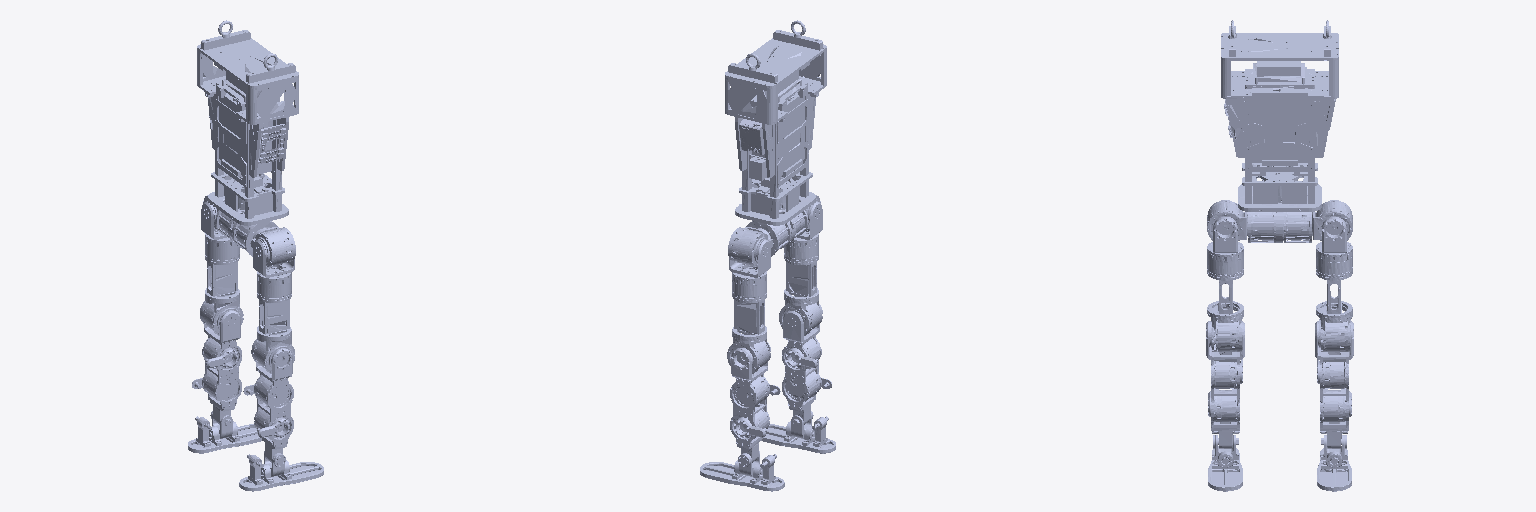
--- Render facts (derived) ---
3 views of the same robot in one strip: view 1: azimuth 30°, elevation 25°; view 2: azimuth 150°, elevation 25°; view 3: azimuth 270°, elevation 25° (orthographic).
Robot: KIMM_bipedal — 18 links, 17 joints (12 revolute, 5 fixed); root link Base_link; default pose: all joints at 0.
Links seen in each view (by area): view 1: Upper_body_link, R_Thigh_link, L_Calf_link, L_Thigh_link, R_Calf_link, R_Ankle_roll_link, L_Ankle_roll_link, R_Hip_pitch_link, Base_link, R_Hip_roll_yaw_link; view 2: Upper_body_link, L_Thigh_link, R_Calf_link, R_Thigh_link, L_Calf_link, L_Ankle_roll_link, R_Ankle_roll_link, L_Hip_pitch_link, Base_link, L_Hip_roll_yaw_link; view 3: Upper_body_link, L_Thigh_link, R_Thigh_link, R_Calf_link, L_Calf_link, Base_link, R_Ankle_roll_link, L_Ankle_roll_link, L_Hip_pitch_link, R_Hip_pitch_link, L_Hip_roll_yaw_link, R_Hip_roll_yaw_link.
Link boxes in pixels (left/top/right/bottom): Upper_body_link: left=197, top=20, right=298, bottom=225; R_Thigh_link: left=251, top=267, right=294, bottom=372; L_Calf_link: left=202, top=311, right=241, bottom=424; L_Thigh_link: left=200, top=230, right=243, bottom=334; R_Calf_link: left=254, top=348, right=293, bottom=462; R_Ankle_roll_link: left=239, top=454, right=323, bottom=491; L_Ankle_roll_link: left=188, top=416, right=261, bottom=453; R_Hip_pitch_link: left=251, top=227, right=295, bottom=266; Base_link: left=215, top=210, right=277, bottom=256; R_Hip_roll_yaw_link: left=253, top=240, right=294, bottom=277; Upper_body_link: left=725, top=20, right=826, bottom=225; L_Thigh_link: left=727, top=267, right=770, bottom=372; R_Calf_link: left=782, top=311, right=821, bottom=424; R_Thigh_link: left=779, top=230, right=822, bottom=334; L_Calf_link: left=730, top=348, right=769, bottom=462; L_Ankle_roll_link: left=700, top=454, right=784, bottom=491; R_Ankle_roll_link: left=762, top=416, right=835, bottom=453; L_Hip_pitch_link: left=728, top=227, right=772, bottom=266; Base_link: left=746, top=210, right=808, bottom=256; L_Hip_roll_yaw_link: left=729, top=240, right=770, bottom=277; Upper_body_link: left=1221, top=20, right=1338, bottom=211; L_Thigh_link: left=1316, top=242, right=1352, bottom=351; R_Thigh_link: left=1207, top=242, right=1243, bottom=351; R_Calf_link: left=1206, top=321, right=1244, bottom=448; L_Calf_link: left=1315, top=321, right=1353, bottom=448; Base_link: left=1248, top=212, right=1311, bottom=242; R_Ankle_roll_link: left=1208, top=431, right=1242, bottom=491; L_Ankle_roll_link: left=1317, top=431, right=1351, bottom=491; L_Hip_pitch_link: left=1312, top=200, right=1352, bottom=240; R_Hip_pitch_link: left=1207, top=200, right=1247, bottom=240; L_Hip_roll_yaw_link: left=1322, top=217, right=1346, bottom=252; R_Hip_roll_yaw_link: left=1213, top=217, right=1237, bottom=252.
Bounding box of the posed robot: 0.2799 × 0.42 × 1.4 m (x, y, z).
18 mesh visuals loaded from 16 distinct referenced files (16 binary STL).

robot.urdf — KIMM_bipedal:
<?xml version="1.0" encoding="utf-8"?>

<robot
  name="KIMM_bipedal">

<!-- BASE -->
  <link
    name="Base_link">
    <inertial>
      <origin
        xyz="0.00015 0.0 0.00221"
        rpy="0 0 0" />
      <mass
        value="5.47777" />
      <inertia
        ixx="0.02107"
        ixy="0.0"
        ixz="0.0"
        iyy="0.00958"
        iyz="0.0"
        izz="0.02026" />
    </inertial>
    <visual>
      <origin
        xyz="0 0 0"
        rpy="0 0 0" />
      <geometry>
        <mesh
          filename="meshes/Base_link.STL" />
      </geometry>
      <material
        name="">
        <color
          rgba="0.79216 0.81961 0.93333 1" />
      </material>
    </visual>
    <collision>
      <origin
        xyz="0 0 0.3"
        rpy="0 0 0" />
      <geometry>
        <box size="0.15 0.3 0.35"/>
      </geometry>
    </collision>
  </link>
  <link
    name="Upper_body_link">
    <inertial>
      <origin
        xyz="-0.00029 0.00115 0.30893"
        rpy="0 0 0" />
      <mass
        value="14.65625" />
      <inertia
        ixx="0.47711"
        ixy="0.0"
        ixz="0.00158"
        iyy="0.40612"
        iyz="0.00050"
        izz="0.12215" />
    </inertial>
    <visual>
      <origin
        xyz="0 0 0"
        rpy="0 0 0" />
      <geometry>
        <mesh
          filename="meshes/Upper_body_link.STL" />
      </geometry>
      <material
        name="">
        <color
          rgba="0.79216 0.81961 0.93333 1" />
      </material>
    </visual>
    <!-- <collision>
      <origin
        xyz="0 0 0.3"
        rpy="0 0 0" />
      <geometry>
        <box size="0.15 0.3 0.35"/>
      </geometry>
    </collision> -->
  </link>
  <joint
    name="Torso_yaw_joint"
    type="fixed">
    <origin
      xyz="0 0 0"
      rpy="0 0 0" />
    <parent
      link="Base_link" />
    <child
      link="Upper_body_link" />
    <axis
      xyz="0 0 1" />
  </joint>
<!-- LEFT LEG -->
  <link
    name="L_Hip_pitch_link">
    <inertial>
      <origin
        xyz="-0.00026 -0.00234 0.00004"
        rpy="0 0 0" />
      <mass
        value="2.89580" />
      <inertia
        ixx="0.00432"
        ixy="0.00007"
        ixz="0.0"
        iyy="0.00371"
        iyz="0.0"
        izz="0.00408" />
    </inertial>
    <visual>
      <origin
        xyz="0 0 0"
        rpy="0 0 0" />
      <geometry>
        <mesh
          filename="meshes/L_Hip_pitch_link.STL" />
      </geometry>
      <material
        name="">
        <color
          rgba="0.79216 0.81961 0.93333 1" />
      </material>
    </visual>
    <collision>
      <origin
        xyz="0 0 0"
        rpy="1.5708 0 0" />
      <geometry>
        <cylinder radius="0.045" length="0.1"/>
      </geometry>
    </collision>
  </link>
  <joint
    name="L_Hip_pitch_joint"
    type="revolute">
    <origin
      xyz="0 0.155 0"
      rpy="0 0 0" />
    <parent link="Base_link" />
    <child link="L_Hip_pitch_link" />
    <axis xyz="0 1 0" />
    <limit effort="125" lower="-3.14159" upper="3.14159" velocity="12.73"/> <!-- -180도 180도 -->
  </joint>
  <link
    name="L_Hip_roll_yaw_link">
    <inertial>
      <origin
        xyz="-0.00072 0.0 -0.03765"
        rpy="0 0 0" />
      <mass
        value="0.37840" />
      <inertia
        ixx="0.00058"
        ixy="0.0"
        ixz="0.00004"
        iyy="0.00119 "
        iyz="0.0"
        izz="0.00093" />
    </inertial>
    <visual>
      <origin
        xyz="0 0 0"
        rpy="0 0 0" />
      <geometry>
        <mesh
          filename="meshes/L_Hip_roll_yaw_link.STL" />
      </geometry>
      <material
        name="">
        <color
          rgba="0.79216 0.81961 0.93333 1" />
      </material>
    </visual>
    <!-- <collision>
      <origin
        xyz="0 0 0"
        rpy="0 0 0" />
      <geometry>
        <cylinder radius="0.045" length="0.1"/>
      </geometry>
    </collision> -->
  </link>
  <joint
    name="L_Hip_roll_joint"
    type="revolute">
    <origin
      xyz="0 0 0"
      rpy="0 0 0" />
    <parent link="L_Hip_pitch_link" />
    <child link="L_Hip_roll_yaw_link" />
    <axis xyz="1 0 0" />
    <limit effort="125" lower="-0.174533" upper="3.14159" velocity="12.73"/> <!-- -10도 180도 -->
  </joint>
  <link
    name="L_Thigh_link">
    <inertial>
      <origin
        xyz="-0.00002 0.00036 -0.23942"
        rpy="0 0 0" />
      <mass
        value="5.96022" />
      <inertia
        ixx="0.08113"
        ixy="0.00001"
        ixz="-0.00004"
        iyy="0.08159"
        iyz="0.00022"
        izz="0.00813" />
    </inertial>
    <visual>
      <origin
        xyz="0 0 0"
        rpy="0 0 0" />
      <geometry>
        <mesh
          filename="meshes/L_Thigh_link.STL" />
      </geometry>
      <material
        name="">
        <color
          rgba="0.79216 0.81961 0.93333 1" />
      </material>
    </visual>
    <collision>
      <origin
        xyz="0 0 -0.2"
        rpy="0 0 0" />
      <geometry>
        <cylinder radius="0.045" length="0.1"/>
      </geometry>
    </collision>
  </link>
  <joint
    name="L_Hip_yaw_joint"
    type="revolute">
    <origin
      xyz="0 0 0"
      rpy="0 0 0" />
    <parent link="L_Hip_roll_yaw_link" />
    <child link="L_Thigh_link" />
    <axis xyz="0 0 1" />
    <limit effort="125" lower="-3.14159" upper="3.14159" velocity="12.73"/> <!-- -180도 180도 -->
  </joint>
  <link
    name="L_Calf_link">
    <inertial>
      <origin
        xyz="-0.00001 -0.00017 -0.17461"
        rpy="0 0 0" />
      <mass
        value="4.29621" />
      <inertia
        ixx="0.02892 "
        ixy="0.0"
        ixz="0.0"
        iyy="0.02875"
        iyz="0.00018"
        izz="0.00464" />
    </inertial>
    <visual>
      <origin
        xyz="0 0 0"
        rpy="0 0 0" />
      <geometry>
        <mesh
          filename="meshes/L_Calf_link.STL" />
      </geometry>
      <material
        name="">
        <color
          rgba="0.79216 0.81961 0.93333 1" />
      </material>
    </visual>
    <collision>
      <origin
        xyz="0 0 -0.15"
        rpy="0 0 0" />
      <geometry>
        <cylinder radius="0.045" length="0.25"/>
      </geometry>
    </collision>
  </link>
  <joint
    name="L_Knee_joint"
    type="revolute">
    <origin
      xyz="0 0 -0.35"
      rpy="0 0 0" />
    <parent link="L_Thigh_link" />
    <child link="L_Calf_link" />
    <axis xyz="0 1 0" />
    <limit effort="125" lower="-2.1293" upper="2.1293" velocity="12.73"/> <!-- -122도 122도 -->
  </joint>
  <link
    name="L_Crank1_link">
    <inertial>
      <origin
        xyz="-0.02580 0.01144 0.0"
        rpy="0 0 0" />
      <mass
        value="0.08394" />
      <inertia
        ixx="0.00002"
        ixy="0.0"
        ixz="0.0"
        iyy="0.00010"
        iyz="0.0"
        izz="0.00009" />
    </inertial>
    <visual>
      <origin
        xyz="0 0 0"
        rpy="0 0 0" />
      <geometry>
        <mesh
          filename="meshes/L_Crank2_link.STL" />
      </geometry>
      <material
        name="">
        <color
          rgba="0.79216 0.81961 0.93333 1" />
      </material>
    </visual>
    <!-- <collision>
      <origin
        xyz="0 0 0"
        rpy="0 0 0" />
      <geometry>
        <mesh
          filename="meshes/L_Crank2_link.STL" />
      </geometry>
    </collision> -->
  </link>
  <joint
    name="L_Crank1_joint"
    type="fixed">
    <origin
      xyz="0 -0.03 -0.125"
      rpy="0 0 0" />
    <parent
      link="L_Calf_link" />
    <child
      link="L_Crank1_link" />
    <axis
      xyz="0 1 0" />
  </joint>
  <!-- <link
    name="L_Rod1_link">
    <inertial>
      <origin
        xyz="-0.00429 -0.00006 -0.10750"
        rpy="0 0 0" />
      <mass
        value="0.11545" />
      <inertia
        ixx="0.00074"
        ixy="0.0"
        ixz="0.0"
        iyy="0.00075"
        iyz="0.0"
        izz="0.00001" />
    </inertial>
    <visual>
      <origin
        xyz="0 0 0"
        rpy="0 0 0" />
      <geometry>
        <mesh
          filename="meshes/L_Rod1_link.STL" />
      </geometry>
      <material
        name="">
        <color
          rgba="0.79216 0.81961 0.93333 1" />
      </material>
    </visual>
    <collision>
      <origin
        xyz="0 0 0"
        rpy="0 0 0" />
      <geometry>
        <mesh
          filename="meshes/L_Rod1_link.STL" />
      </geometry>
    </collision>
  </link>
  <joint
    name="L_Rod_joint"
    type="fixed">
    <origin
      xyz="-0.065 0 0"
      rpy="0 0 0" />
    <parent
      link="L_Crank1_link" />
    <child
      link="L_Rod1_link" />
    <axis
      xyz="0 1 0" />
  </joint> -->
  <link
    name="L_Crank2_link">
    <inertial>
      <origin
        xyz="-0.02580 0.01144 0.0"
        rpy="0 0 0" />
      <mass
        value="0.08394" />
      <inertia
        ixx="0.00002"
        ixy="0.0"
        ixz="0.0"
        iyy="0.00010"
        iyz="0.0"
        izz="0.00009" />
    </inertial>
    <visual>
      <origin
        xyz="0 0 0"
        rpy="0 0 0" />
      <geometry>
        <mesh
          filename="meshes/L_Crank1_link.STL" />
      </geometry>
      <material
        name="">
        <color
          rgba="0.792156862745098 0.819607843137255 0.933333333333333 1" />
      </material>
    </visual>
    <!-- <collision>
      <origin
        xyz="0 0 0"
        rpy="0 0 0" />
      <geometry>
        <mesh
          filename="meshes/L_Crank1_link.STL" />
      </geometry>
    </collision> -->
  </link>
  <joint
    name="L_Crank2_joint"
    type="fixed">
    <origin
      xyz="0 0.03 -0.229"
      rpy="0 0 0" />
    <parent
      link="L_Calf_link" />
    <child
      link="L_Crank2_link" />
    <axis
      xyz="0 1 0" />
  </joint>
  <!-- <link
    name="L_Rod2_link">
    <inertial>
      <origin
        xyz="-0.00297 0.00008 -0.05550"
        rpy="0 0 0" />
      <mass
        value="0.07761" />
      <inertia
        ixx="0.00016"
        ixy="0.0"
        ixz="0.0"
        iyy="0.00017"
        iyz="0.0"
        izz="0.0" />
    </inertial>
    <visual>
      <origin
        xyz="0 0 0"
        rpy="0 0 0" />
      <geometry>
        <mesh
          filename="meshes/L_Rod2_link.STL" />
      </geometry>
      <material
        name="">
        <color
          rgba="0.79216 0.81961 0.93333 1" />
      </material>
    </visual>
    <collision>
      <origin
        xyz="0 0 0"
        rpy="0 0 0" />
      <geometry>
        <mesh
          filename="meshes/L_Rod2_link.STL" />
      </geometry>
    </collision>
  </link>
  <joint
    name="L_Rod2_joint"
    type="fixed">
    <origin
      xyz="-0.065 0 0"
      rpy="0 0 0" />
    <parent
      link="L_Crank2_link" />
    <child
      link="L_Rod2_link" />
    <axis
      xyz="0 1 0" />
  </joint> -->
  <link
    name="L_Ankle_pitch_link">
    <inertial>
      <origin
        xyz="0.00042 0.00266 -0.02372"
        rpy="0 0 0" />
      <mass
        value="0.53789" />
      <inertia
        ixx="0.00046"
        ixy="0.0"
        ixz="0.00001"
        iyy="0.00069"
        iyz="0.0"
        izz="0.00034" />
    </inertial>
    <visual>
      <origin
        xyz="0 0 0"
        rpy="0 0 0" />
      <geometry>
        <mesh
          filename="meshes/L_Ankle_pitch_link.STL" />
      </geometry>
      <material
        name="">
        <color
          rgba="0.79216 0.81961 0.93333 1" />
      </material>
    </visual>
    <!-- <collision>
      <origin
        xyz="0 0 0"
        rpy="0 0 0" />
      <geometry>
        <mesh
          filename="meshes/L_Ankle_pitch_link.STL" />
      </geometry>
    </collision> -->
  </link>
  <joint
    name="L_Ankle_pitch_joint"
    type="revolute">
    <origin
      xyz="0 0 -0.34"
      rpy="0 0 0" />
    <parent link="L_Calf_link" />
    <child link="L_Ankle_pitch_link" />
    <axis xyz="0 1 0" />
    <limit effort="76" lower="-0.698132" upper="0.698132" velocity="12.38"/> <!-- -40도 40도 -->
  </joint>
  <link
    name="L_Ankle_roll_link">
    <inertial>
      <origin
        xyz="-0.00490 -0.00001 -0.00997"
        rpy="0 0 0" />
      <mass
        value="0.77460" />  <!--0.77460-->
      <inertia
        ixx="0.00094"
        ixy="0.0"
        ixz="0.00062"
        iyy="0.00401"
        iyz="0.0"
        izz="0.00388" />
    </inertial>
    <visual>
      <origin
        xyz="0 0 0"
        rpy="0 0 0" />
      <geometry>
        <mesh
          filename="meshes/L_Ankle_roll_link.STL" />
      </geometry>
      <material
        name="">
        <color
          rgba="0.79216 0.81961 0.93333 1" />
      </material>
    </visual>
    <collision>
      <origin
        xyz="0 0 -0.0315"
        rpy="0 0 0" />
      <geometry>
        <box size="0.279 0.099 0.013"/>
      </geometry>
    </collision>
  </link>
  <joint
    name="L_Ankle_roll_joint"
    type="revolute">
    <origin
      xyz="0 0 -0.042"
      rpy="0 0 0" />
    <parent link="L_Ankle_pitch_link" />
    <child link="L_Ankle_roll_link" />
    <axis xyz="1 0 0" />
    <limit effort="76" lower="-0.349066" upper="0.349066" velocity="12.38"/> <!-- -20도 20도 -->
  </joint>
<!-- RIGHT LEG -->
  <link
    name="R_Hip_pitch_link">
    <inertial>
      <origin
        xyz="-0.00026 0.00234 0.00004"
        rpy="0 0 0" />
      <mass
        value="2.89580" />
      <inertia
        ixx="0.00432"
        ixy="-0.00007"
        ixz="0.0"
        iyy="0.00371"
        iyz="0.0"
        izz="0.00408" />
    </inertial>
    <visual>
      <origin
        xyz="0 0 0"
        rpy="0 0 0" />
      <geometry>
        <mesh
          filename="meshes/R_Hip_pitch_link.STL" />
      </geometry>
      <material
        name="">
        <color
          rgba="0.79216 0.81961 0.93333 1" />
      </material>
    </visual>
    <collision>
      <origin
        xyz="0 0 0"
        rpy="1.5708 0 0" />
      <geometry>
        <cylinder radius="0.045" length="0.1"/>
      </geometry>
    </collision>
  </link>
  <joint
    name="R_Hip_pitch_joint"
    type="revolute">
    <origin
      xyz="0 -0.155 0"
      rpy="0 0 0" />
    <parent link="Base_link" />
    <child link="R_Hip_pitch_link" />
    <axis xyz="0 1 0" />
    <limit effort="125" lower="-3.14159" upper="3.14159" velocity="12.73"/> <!-- -180도 180도 -->
  </joint>
  <link
    name="R_Hip_roll_yaw_link">
    <inertial>
      <origin
        xyz="-0.00072 0.0 -0.03765"
        rpy="0 0 0" />
      <mass
        value="0.37840" />
      <inertia
        ixx="0.00058"
        ixy="0.0"
        ixz="0.00004"
        iyy="0.00119 "
        iyz="0.0"
        izz="0.00093" />
    </inertial>
    <visual>
      <origin
        xyz="0 0 0"
        rpy="0 0 0" />
      <geometry>
        <mesh
          filename="meshes/R_Hip_roll_yaw_link.STL" />
      </geometry>
      <material
        name="">
        <color
          rgba="0.79216 0.81961 0.93333 1" />
      </material>
    </visual>
    <!-- <collision>
      <origin
        xyz="0 0 0"
        rpy="0 0 0" />
      <geometry>
        <cylinder radius="0.045" length="0.1"/>
      </geometry>
    </collision> -->
  </link>
  <joint
    name="R_Hip_roll_joint"
    type="revolute">
    <origin
      xyz="0 0 0"
      rpy="0 0 0" />
    <parent link="R_Hip_pitch_link" />
    <child link="R_Hip_roll_yaw_link" />
    <axis xyz="1 0 0" />
    <limit effort="125" lower="-0.174533" upper="3.14159" velocity="12.73"/> <!-- -10도 180도 -->
  </joint>
  <link
    name="R_Thigh_link">
    <inertial>
      <origin
        xyz="-0.00002 -0.00036 -0.23942"
        rpy="0 0 0" />
      <mass
        value="5.96022" />
      <inertia
        ixx="0.08113"
        ixy="-0.00001"
        ixz="-0.00004"
        iyy="0.08159"
        iyz="-0.00022"
        izz="0.00813" />
    </inertial>
    <visual>
      <origin
        xyz="0 0 0"
        rpy="0 0 0" />
      <geometry>
        <mesh
          filename="meshes/R_Thigh_link.STL" />
      </geometry>
      <material
        name="">
        <color
          rgba="0.792156862745098 0.819607843137255 0.933333333333333 1" />
      </material>
    </visual>
    <collision>
      <origin
        xyz="0 0 -0.2"
        rpy="0 0 0" />
      <geometry>
        <cylinder radius="0.045" length="0.1"/>
      </geometry>
    </collision>
  </link>
  <joint
    name="R_Hip_yaw_joint"
    type="revolute">
    <origin
      xyz="0 0 0"
      rpy="0 0 0" />
    <parent link="R_Hip_roll_yaw_link" />
    <child link="R_Thigh_link" />
    <axis xyz="0 0 1" />
    <limit effort="125" lower="-3.14159" upper="3.14159" velocity="12.73"/> <!-- -180도 180도 -->
  </joint>
  <link
    name="R_Calf_link">
    <inertial>
      <origin
        xyz="-0.00001 0.00017 -0.17461"
        rpy="0 0 0" />
      <mass
        value="4.29621" />
      <inertia
        ixx="0.02892 "
        ixy="0.0"
        ixz="0.0"
        iyy="0.02875"
        iyz="-0.00018"
        izz="0.00464" />
    </inertial>
    <visual>
      <origin
        xyz="0 0 0"
        rpy="0 0 0" />
      <geometry>
        <mesh
          filename="meshes/R_Calf_link.STL" />
      </geometry>
      <material
        name="">
        <color
          rgba="0.79216 0.81961 0.93333 1" />
      </material>
    </visual>
    <collision>
      <origin
        xyz="0 0 -0.15"
        rpy="0 0 0" />
      <geometry>
        <cylinder radius="0.045" length="0.25"/>
      </geometry>
    </collision>
  </link>
  <joint
    name="R_Knee_joint"
    type="revolute">
    <origin
      xyz="0 0 -0.35"
      rpy="0 0 0" />
    <parent link="R_Thigh_link" />
    <child link="R_Calf_link" />
    <axis xyz="0 1 0" />
    <limit effort="125" lower="-2.1293" upper="2.1293" velocity="12.73"/> <!-- -122도 122도 -->
  </joint>
  <link
    name="R_Crank1_link">
    <inertial>
      <origin
        xyz="-0.02580 -0.01144 0.0"
        rpy="0 0 0" />
      <mass
        value="0.08394" />
      <inertia
        ixx="0.00002"
        ixy="0.0"
        ixz="0.0"
        iyy="0.00010"
        iyz="0.0"
        izz="0.00009" />
    </inertial>
    <visual>
      <origin
        xyz="0 0 0"
        rpy="0 0 0" />
      <geometry>
        <mesh
          filename="meshes/L_Crank1_link.STL" />
      </geometry>
      <material
        name="">
        <color
          rgba="0.79216 0.81961 0.93333 1" />
      </material>
    </visual>
    <!-- <collision>
      <origin
        xyz="0 0 0"
        rpy="0 0 0" />
      <geometry>
        <mesh
          filename="meshes/L_Crank1_link.STL" />
      </geometry>
    </collision> -->
  </link>
  <joint
    name="R_Crank1_joint"
    type="fixed">
    <origin
      xyz="0 0.03 -0.125"
      rpy="0 0 0" />
    <parent
      link="R_Calf_link" />
    <child
      link="R_Crank1_link" />
    <axis
      xyz="0 1 0" />
  </joint>
  <!-- <link
    name="R_Rod1_link">
    <inertial>
      <origin
        xyz="-0.00429 0.00006 -0.10750"
        rpy="0 0 0" />
      <mass
        value="0.11545" />
      <inertia
        ixx="0.00074"
        ixy="0.0"
        ixz="0.0"
        iyy="0.00075"
        iyz="0.0"
        izz="0.00001" />
    </inertial>
    <visual>
      <origin
        xyz="0 0 0"
        rpy="0 0 0" />
      <geometry>
        <mesh
          filename="meshes/L_Rod1_link.STL" />
      </geometry>
      <material
        name="">
        <color
          rgba="0.792156862745098 0.819607843137255 0.933333333333333 1" />
      </material>
    </visual>
    <collision>
      <origin
        xyz="0 0 0"
        rpy="0 0 0" />
      <geometry>
        <mesh
          filename="meshes/R_Rod1_link.STL" />
      </geometry>
    </collision>
  </link>
  <joint
    name="R_Rod_joint"
    type="fixed">
    <origin
      xyz="-0.065 0 0"
      rpy="0 0 0" />
    <parent
      link="R_Crank1_link" />
    <child
      link="R_Rod1_link" />
    <axis
      xyz="0 1 0" />
  </joint> -->
  <link
    name="R_Crank2_link">
    <inertial>
      <origin
        xyz="-0.02580 -0.01144 0.0"
        rpy="0 0 0" />
      <mass
        value="0.08394" />
      <inertia
        ixx="0.00002"
        ixy="0.0"
        ixz="0.0"
        iyy="0.00010"
        iyz="0.0"
        izz="0.00009" />
    </inertial>
    <visual>
      <origin
        xyz="0 0 0"
        rpy="0 0 0" />
      <geometry>
        <mesh
          filename="meshes/L_Crank2_link.STL" />
      </geometry>
      <material
        name="">
        <color
          rgba="0.792156862745098 0.819607843137255 0.933333333333333 1" />
      </material>
    </visual>
    <!-- <collision>
      <origin
        xyz="0 0 0"
        rpy="0 0 0" />
      <geometry>
        <mesh
          filename="meshes/L_Crank2_link.STL" />
      </geometry>
    </collision> -->
  </link>
  <joint
    name="R_Crank2_joint"
    type="fixed">
    <origin
      xyz="0 -0.03 -0.229"
      rpy="0 0 0" />
    <parent
      link="R_Calf_link" />
    <child
      link="R_Crank2_link" />
    <axis
      xyz="0 1 0" />
  </joint>
  <!-- <link
    name="R_Rod2_link">
    <inertial>
      <origin
        xyz="-0.00297 -0.00008 -0.05550"
        rpy="0 0 0" />
      <mass
        value="0.07761" />
      <inertia
        ixx="0.00016"
        ixy="0.0"
        ixz="0.0"
        iyy="0.00017"
        iyz="0.0"
        izz="0.0" />
    </inertial>
    <visual>
      <origin
        xyz="0 0 0"
        rpy="0 0 0" />
      <geometry>
        <mesh
          filename="meshes/L_Rod2_link.STL" />
      </geometry>
      <material
        name="">
        <color
          rgba="0.792156862745098 0.819607843137255 0.933333333333333 1" />
      </material>
    </visual>
    <collision>
      <origin
        xyz="0 0 0"
        rpy="0 0 0" />
      <geometry>
        <mesh
          filename="meshes/R_Rod2_link.STL" />
      </geometry>
    </collision>
  </link>
  <joint
    name="R_Rod2_joint"
    type="fixed">
    <origin
      xyz="-0.065 0 0"
      rpy="0 0 0" />
    <parent
      link="R_Crank2_link" />
    <child
      link="R_Rod2_link" />
    <axis
      xyz="0 1 0" />
  </joint> -->
  <link
    name="R_Ankle_pitch_link">
    <inertial>
      <origin
        xyz="0.00042 -0.00266 -0.02372"
        rpy="0 0 0" />
      <mass
        value="0.53789" />
      <inertia
        ixx="0.00046"
        ixy="0.0"
        ixz="0.00001"
        iyy="0.00069"
        iyz="0.0"
        izz="0.00034" />
    </inertial>
    <visual>
      <origin
        xyz="0 0 0"
        rpy="0 0 0" />
      <geometry>
        <mesh
          filename="meshes/R_Ankle_pitch_link.STL" />
      </geometry>
      <material
        name="">
        <color
          rgba="0.792156862745098 0.819607843137255 0.933333333333333 1" />
      </material>
    </visual>
    <!-- <collision>
      <origin
        xyz="0 0 0"
        rpy="0 0 0" />
      <geometry>
        <mesh
          filename="meshes/R_Ankle_pitch_link.STL" />
      </geometry>
    </collision> -->
  </link>
  <joint
    name="R_Ankle_pitch_joint"
    type="revolute">
    <origin
      xyz="0 0 -0.34"
      rpy="0 0 0" />
    <parent link="R_Calf_link" />
    <child link="R_Ankle_pitch_link" />
    <axis xyz="0 1 0" />
    <limit effort="76" lower="-0.698132" upper="0.698132" velocity="12.38"/> <!-- -40도 40도 -->
  </joint>
  <link
    name="R_Ankle_roll_link">
    <inertial>
      <origin
        xyz="-0.00490 0.00001 -0.00997"
        rpy="0 0 0" />
      <mass
        value="0.77460" />
      <inertia
        ixx="0.00094"
        ixy="0.0"
        ixz="0.00062"
        iyy="0.00401"
        iyz="0.0"
        izz="0.00388" />
    </inertial>
    <visual>
      <origin
        xyz="0 0 0"
        rpy="0 0 0" />
      <geometry>
        <mesh
          filename="meshes/R_Ankle_roll_link.STL" />
      </geometry>
      <material
        name="">
        <color
          rgba="0.792156862745098 0.819607843137255 0.933333333333333 1" />
      </material>
    </visual>
    <collision>
      <origin
        xyz="0 0 -0.0315"
        rpy="0 0 0" />
      <geometry>
        <box size="0.279 0.099 0.013"/>
      </geometry>
    </collision>
  </link>
  <joint
    name="R_Ankle_roll_joint"
    type="revolute">
    <origin
      xyz="0 0 -0.042"
      rpy="0 0 0" />
    <parent link="R_Ankle_pitch_link" />
    <child link="R_Ankle_roll_link" />
    <axis xyz="1 0 0" />
    <limit effort="76" lower="-0.349066" upper="0.349066" velocity="12.38"/> <!-- -20도 20도 -->
  </joint>
</robot>
